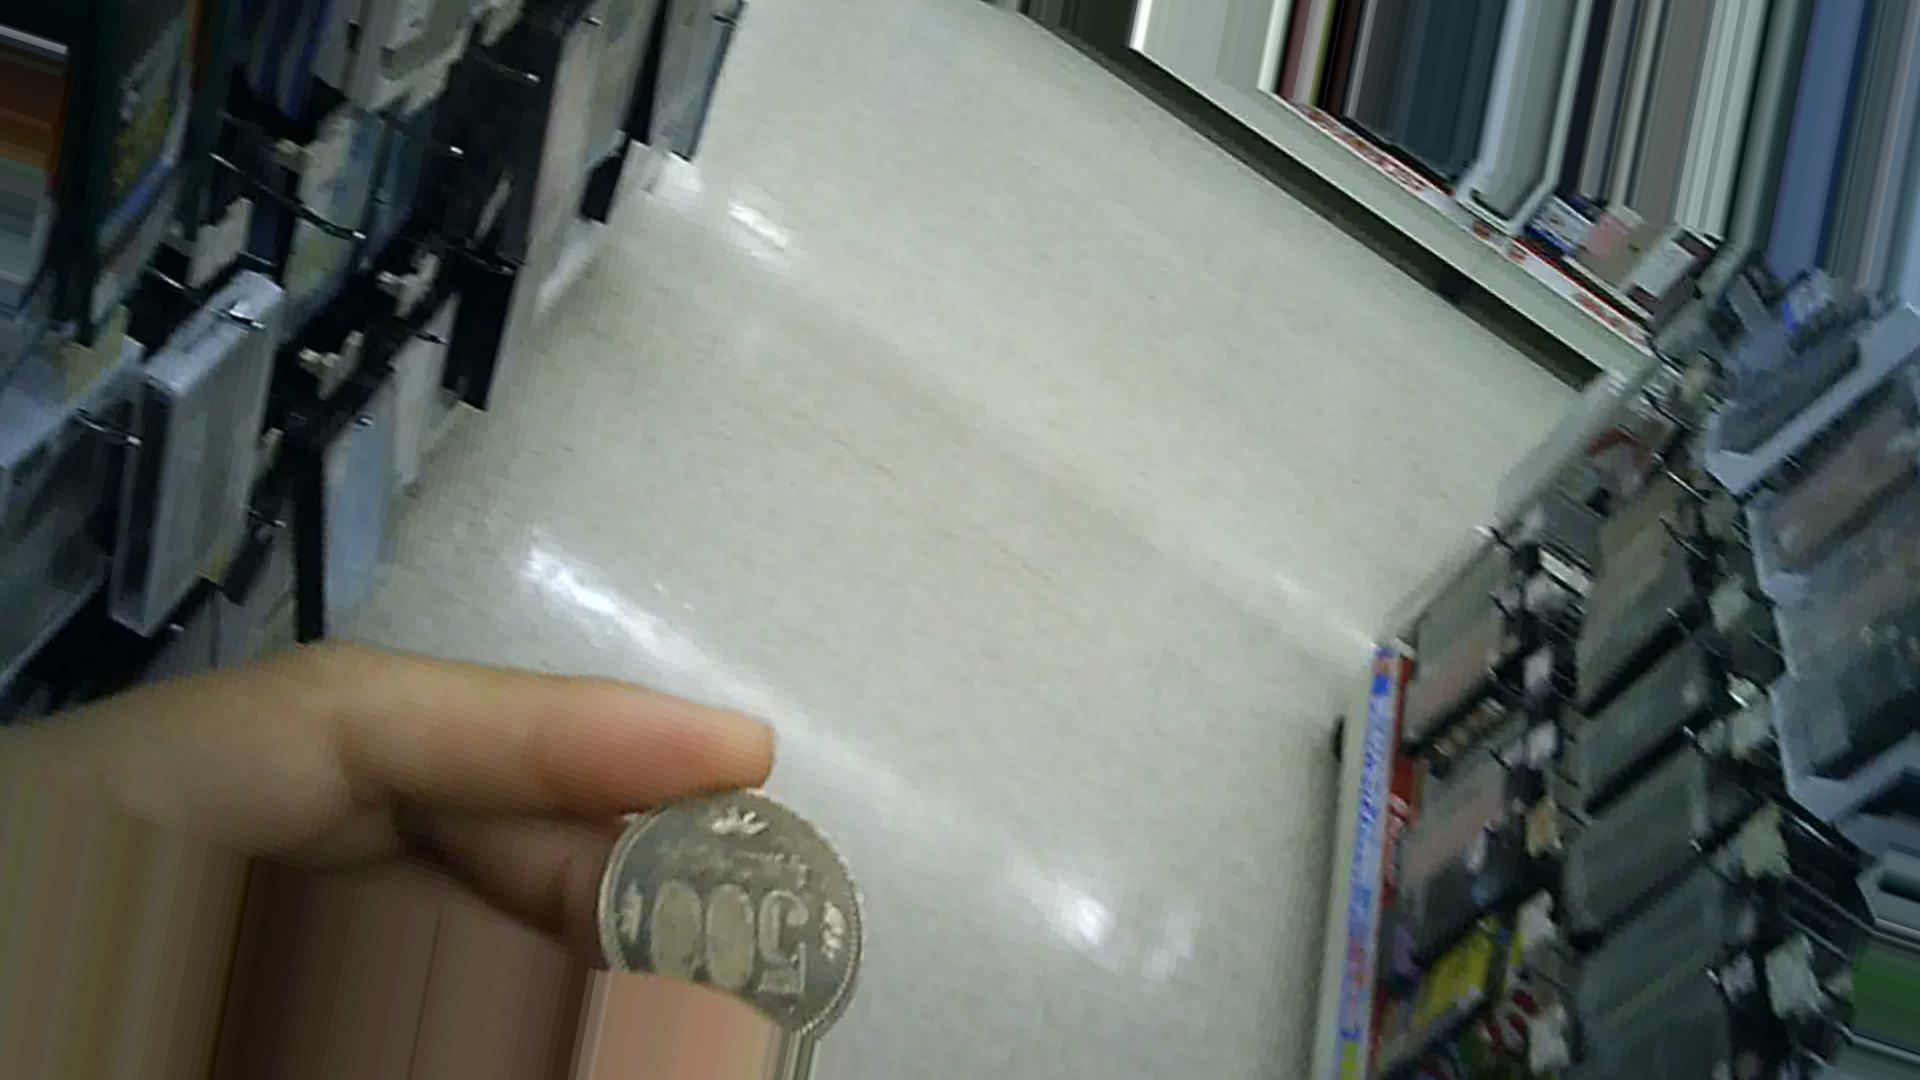500 Yen: (578, 770, 876, 1038)
